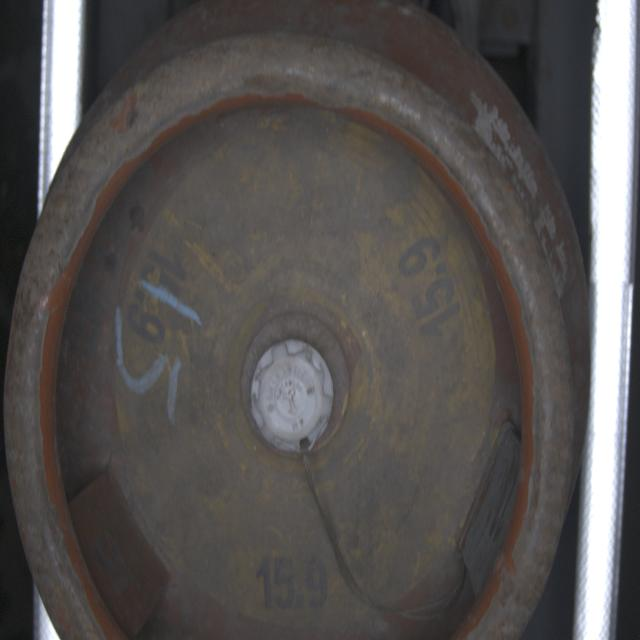Cap: (248, 335, 335, 457)
